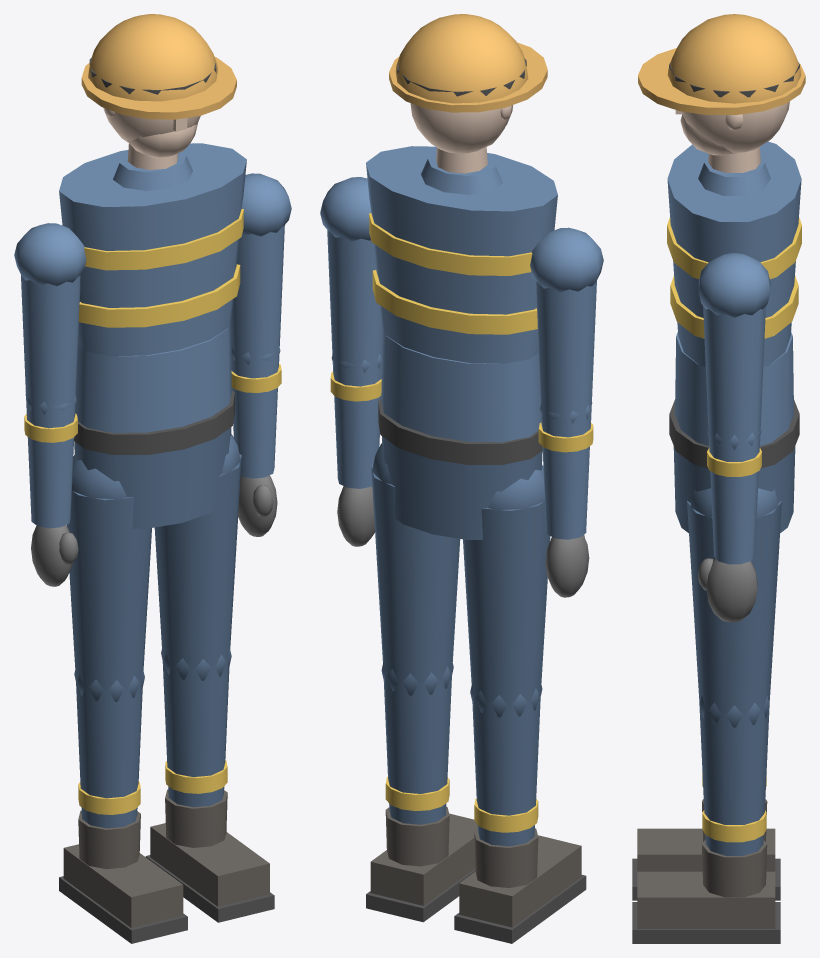
Rendered from helper_B.glb.
3 renders of one model, left to right at view 1: azimuth 30°, elevation 25°; view 2: azimuth 150°, elevation 25°; view 3: azimuth 270°, elevation 25°, orthographic. The views are drawn at different scales.
Visible parts, largest first — view 1: chest, head, hip_R, hip_L, spine, pelvis, ankle_R, shoulder_R, ankle_L, knee_R, knee_L, shoulder_L (+5 smaller); view 2: chest, hip_R, head, hip_L, spine, pelvis, shoulder_R, ankle_R, knee_L, knee_R, ankle_L, shoulder_L (+5 smaller); view 3: chest, head, hip_L, ankle_L, shoulder_L, knee_L, elbow_L, pelvis, spine, ankle_R, wrist_L, neck.
Boxes of the visible parts, x1,y1,x2,y2 form: chest: (59,143,246,356); head: (81,14,236,157); hip_R: (66,455,151,690); hip_L: (154,434,241,669); spine: (75,322,231,432); pelvis: (74,390,234,528); ankle_R: (59,810,187,943); shoulder_R: (14,223,86,408); ankle_L: (145,789,274,922); knee_R: (74,668,144,828); knee_L: (161,647,231,807); shoulder_L: (230,173,291,358); chest: (366,146,557,363); hip_R: (463,465,550,705); head: (389,14,547,153); hip_L: (371,443,460,683); spine: (381,328,541,442); pelvis: (378,399,542,539); shoulder_R: (530,227,603,416); ankle_R: (454,828,586,943); knee_L: (381,661,453,824); knee_R: (470,683,542,846); ankle_L: (366,806,477,922); shoulder_L: (320,177,382,365); chest: (667,141,801,366); head: (638,14,805,155); hip_L: (687,488,781,714); ankle_L: (632,840,780,943); shoulder_L: (698,253,770,441); knee_L: (699,696,769,855); elbow_L: (707,428,761,564); pelvis: (669,399,799,533); spine: (675,331,793,445); ankle_R: (632,799,780,900); wrist_L: (697,558,757,622); neck: (708,147,760,172).
Bounding box in the file's own units: 0.6182 × 1.92 × 0.3392.
